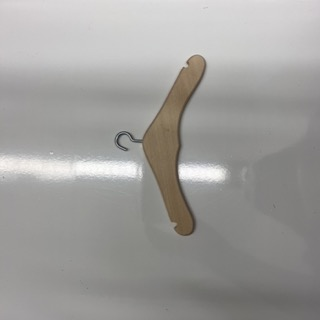rack: (114, 53, 206, 236)
